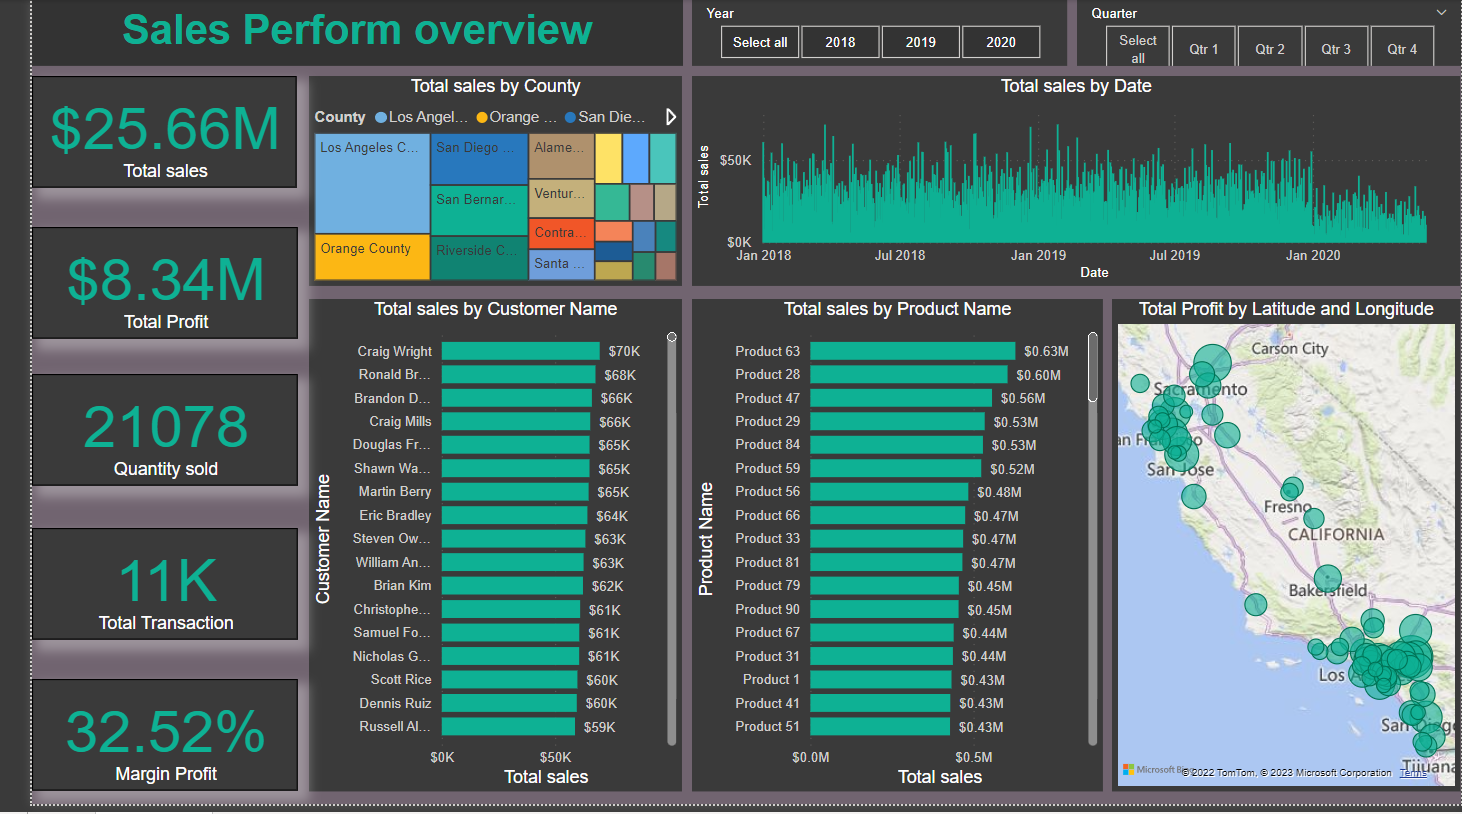

The page's visual inventory and layout, read from the dashboard file:
{"tool":"powerbi","page":{"name":"Sale Overview","canvas":[1280,720],"ordinal":1},"visuals":[{"type":"treemap","fields":{"Group":["Location.County"],"Values":["Key M.Total sales"]},"box":[248.3,68.3,334.3,188],"z":0},{"type":"textbox","box":[0,0,582.6,59.4],"z":1000},{"type":"clusteredColumnChart","fields":{"Y":["Key M.Total sales"],"Category":["DATE.Date"]},"box":[591.4,68.3,688.1,188],"z":2000},{"type":"clusteredBarChart","fields":{"Category":["Customer.Customer Name"],"Y":["Key M.Total sales"]},"box":[248.3,267.8,334.3,440.7],"z":3000},{"type":"clusteredBarChart","fields":{"Y":["Key M.Total sales"],"Category":["Product.Product Name"]},"box":[591.4,267.8,368,440.7],"z":4000},{"type":"map","fields":{"Size":["Key M.Total Profit"],"X":["Location.Longitude"],"Y":["Location.Latitude"]},"box":[967.4,267.8,312.1,440.7],"z":5000},{"type":"card","fields":{"Values":["Key M.Total sales"]},"box":[0,68.1,237.3,100.3],"z":6000},{"type":"card","fields":{"Values":["Key M.Quantity sold"]},"box":[0,335.2,237.6,100.2],"z":7000},{"type":"card","fields":{"Values":["Key M.Total Transaction"]},"box":[0,472.6,237.6,100.2],"z":8000},{"type":"card","fields":{"Values":["Key M.Margin Profit"]},"box":[0,608.3,237.6,100.2],"z":9000},{"type":"card","fields":{"Values":["Key M.Total Profit"]},"box":[0,203.1,237.6,100.2],"z":10000},{"type":"slicer","fields":{"Values":["DATE.Date.Variation.Date Hierarchy.Year"]},"box":[591.4,0,336.1,59.4],"z":11000},{"type":"slicer","fields":{"Values":["DATE.Date.Variation.Date Hierarchy.Quarter"]},"box":[935.8,0,343.9,59.1],"z":12000}]}

Visuals, with their boxes in screenshot pixels (x1, y1, x2, y2), scaled from the page's 1280x720 canvas onto the 1462x814 screenshot:
treemap - Location.County x Key M.Total sales: pyautogui.locateOnScreen(284, 77, 665, 290)
textbox: pyautogui.locateOnScreen(0, 0, 665, 67)
clusteredColumnChart - Key M.Total sales x DATE.Date: pyautogui.locateOnScreen(675, 77, 1461, 290)
clusteredBarChart - Customer.Customer Name x Key M.Total sales: pyautogui.locateOnScreen(284, 303, 665, 801)
clusteredBarChart - Key M.Total sales x Product.Product Name: pyautogui.locateOnScreen(675, 303, 1096, 801)
map - Key M.Total Profit x Location.Longitude: pyautogui.locateOnScreen(1105, 303, 1461, 801)
card - Key M.Total sales: pyautogui.locateOnScreen(0, 77, 271, 190)
card - Key M.Quantity sold: pyautogui.locateOnScreen(0, 379, 271, 492)
card - Key M.Total Transaction: pyautogui.locateOnScreen(0, 534, 271, 648)
card - Key M.Margin Profit: pyautogui.locateOnScreen(0, 688, 271, 801)
card - Key M.Total Profit: pyautogui.locateOnScreen(0, 230, 271, 343)
slicer - DATE.Date.Variation.Date Hierarchy.Year: pyautogui.locateOnScreen(675, 0, 1059, 67)
slicer - DATE.Date.Variation.Date Hierarchy.Quarter: pyautogui.locateOnScreen(1069, 0, 1461, 67)
